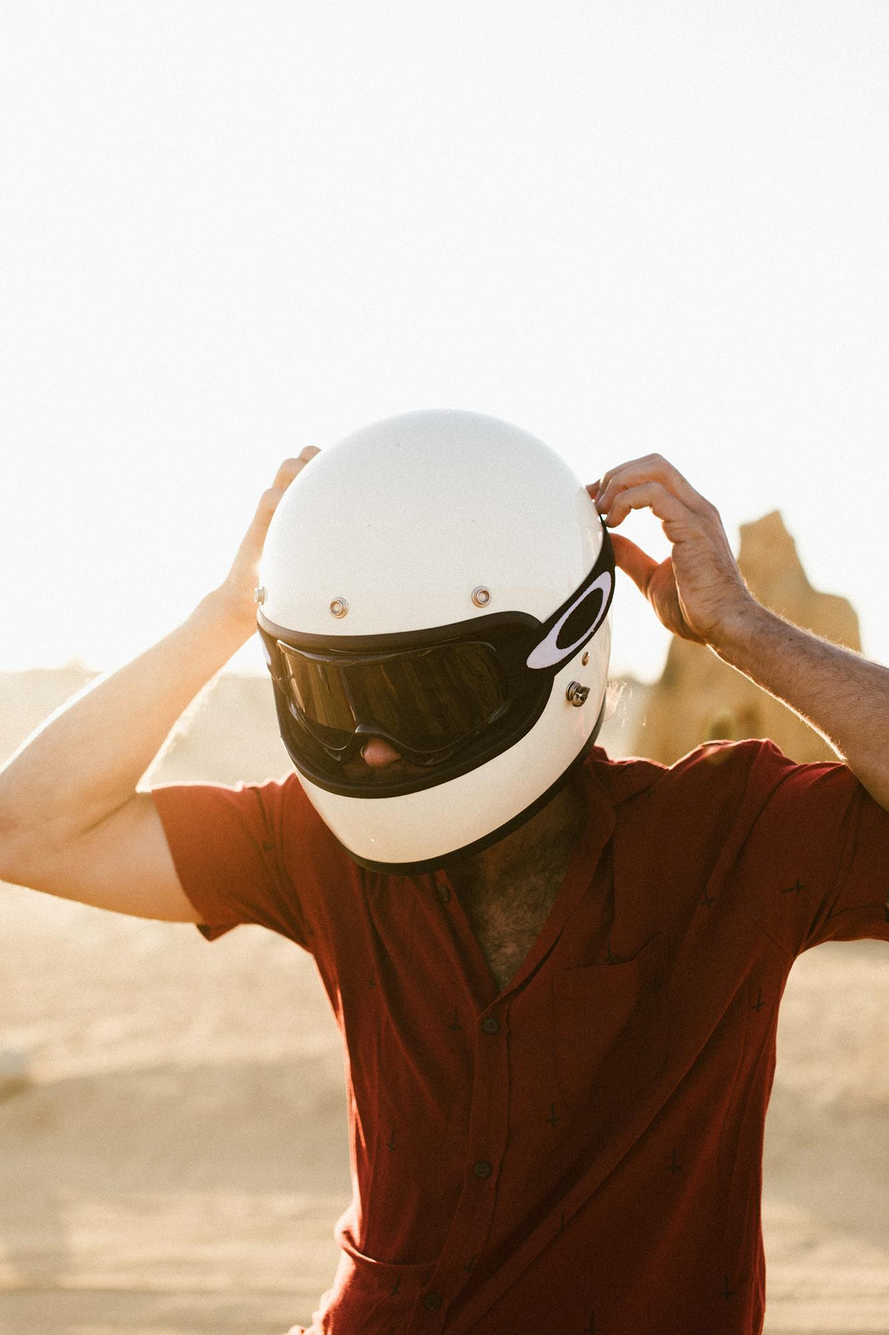helmet: (252, 405, 617, 879)
